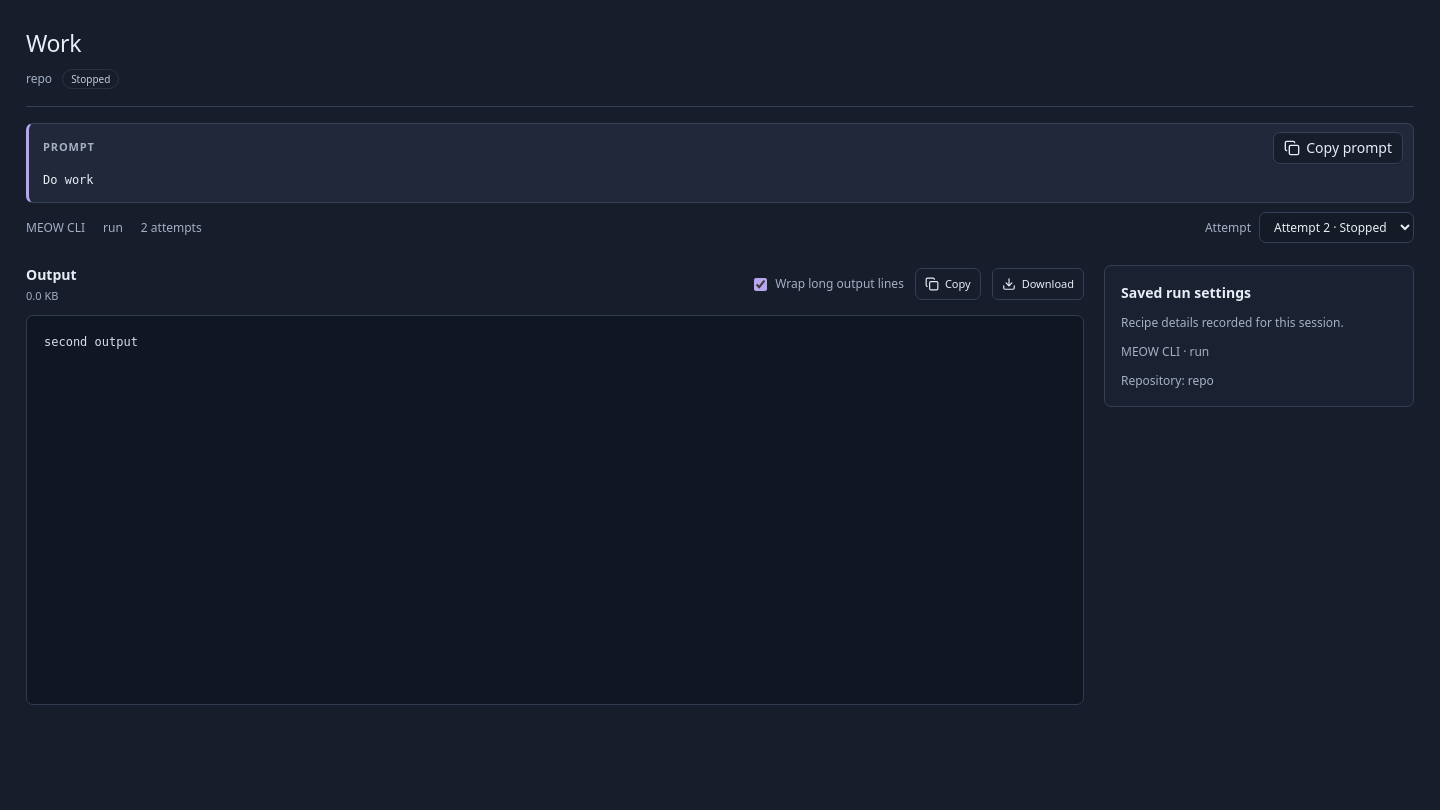
Test case: returning to a previously viewed attempt reloads its output
Expected: the text named "Text output" reads "second output", [44,335,138,349]
Select "Attempt 1 · Stopped" in the dropdown labelled "Attempt" at [1336, 228], box [1259,212,1414,243]
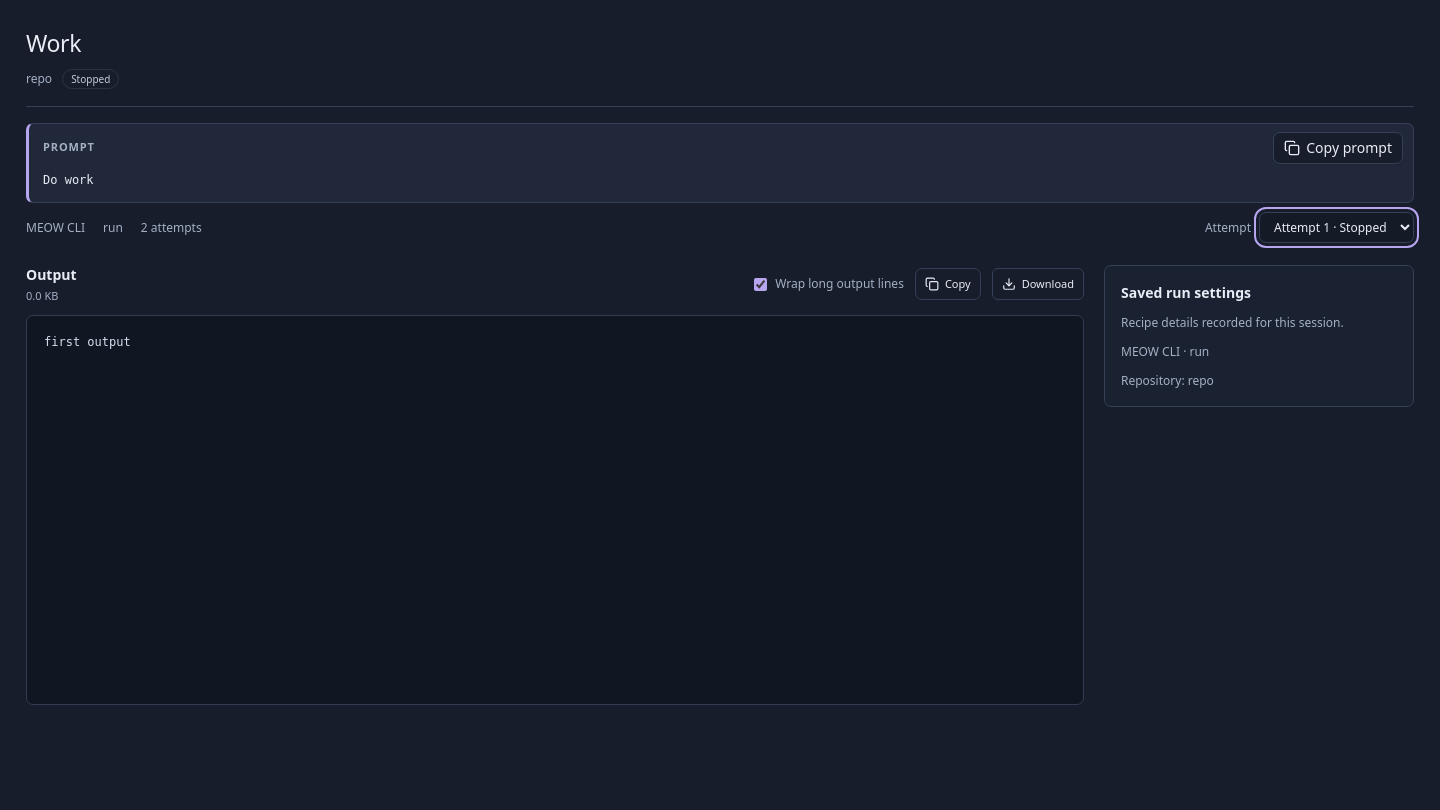
Expected: the text named "Text output" reads "first output", [44,335,131,349]
Select "Attempt 2 · Stopped" in the dropdown labelled "Attempt" at [1336, 228], box [1259,212,1414,243]
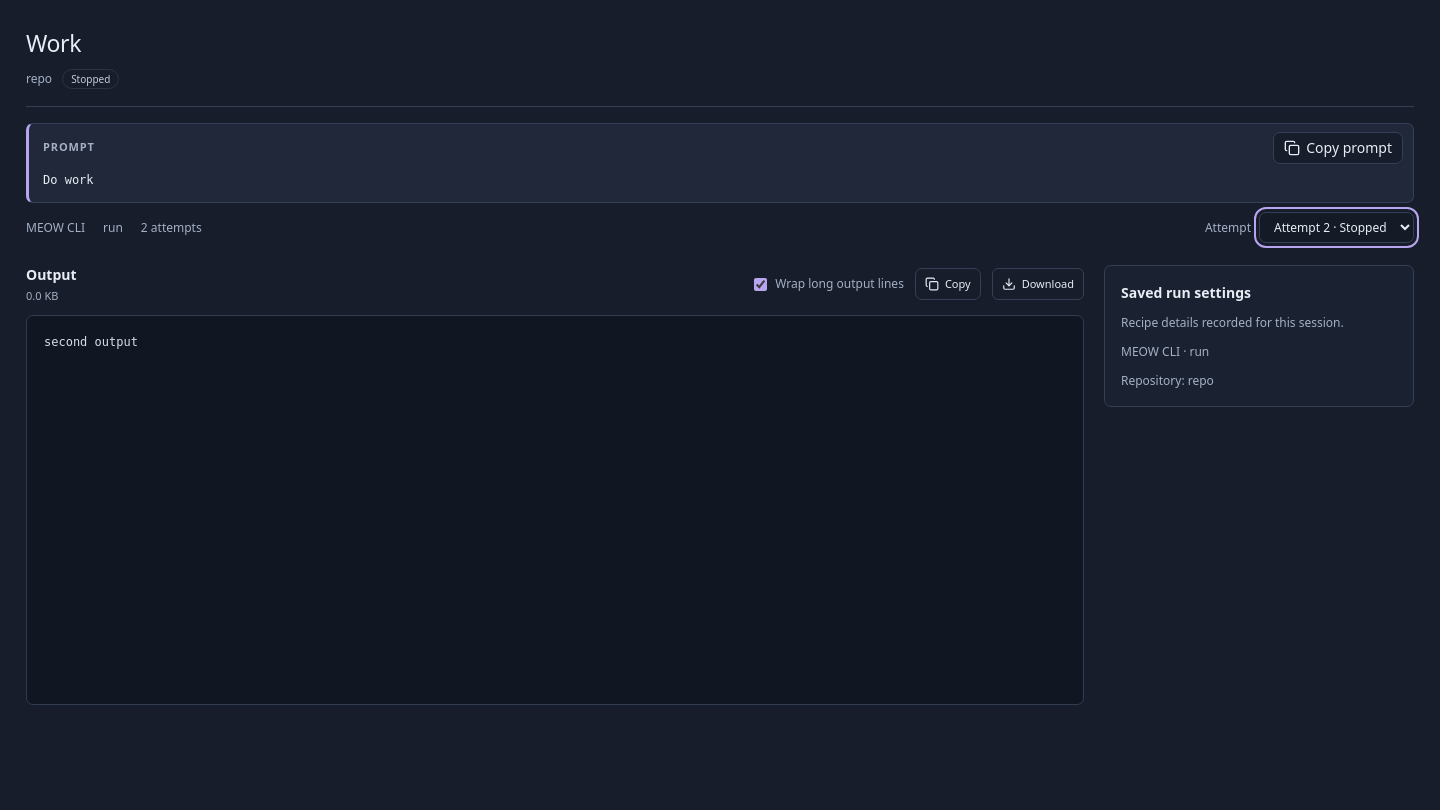
Expected: the text named "Text output" reads "second output", [44,335,138,349]
